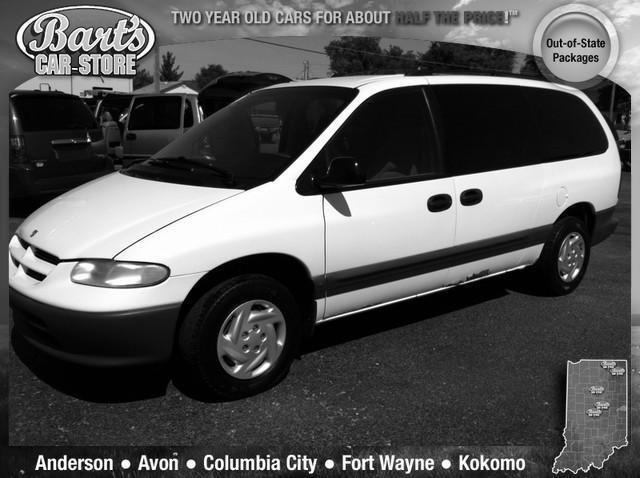car: (1, 72, 624, 406)
